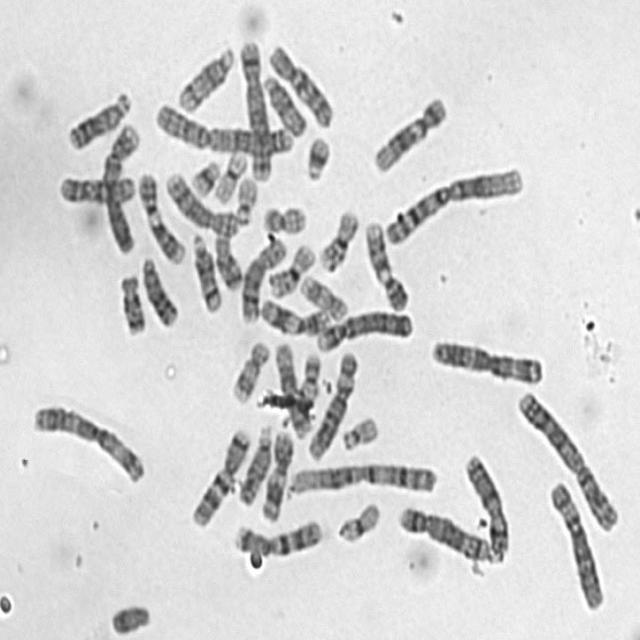A1: (377, 158, 527, 247), (282, 453, 439, 499)
A2: (512, 382, 622, 534), (147, 93, 296, 157)
A3: (26, 395, 148, 485), (424, 330, 546, 387)
B4: (96, 115, 142, 257), (311, 301, 415, 353)
B5: (392, 498, 494, 564), (234, 30, 274, 184)
C10: (262, 35, 336, 129), (52, 166, 138, 206)
C11: (255, 423, 296, 524), (254, 290, 332, 338)
C12: (367, 87, 449, 174), (268, 336, 314, 438)
C6: (543, 473, 606, 612), (302, 343, 360, 462)
C7: (186, 422, 252, 528), (228, 511, 323, 559)
C8: (160, 164, 242, 237), (234, 230, 290, 325)
C9: (131, 164, 188, 266), (358, 212, 411, 312)
D13: (60, 83, 133, 152), (135, 248, 180, 328)
D14: (171, 37, 236, 114), (185, 225, 224, 314)
D15: (257, 66, 309, 138), (235, 419, 278, 506)
E16: (313, 201, 361, 273), (263, 236, 317, 298)
E17: (226, 334, 271, 406), (294, 266, 350, 322)
E18: (113, 266, 147, 337), (209, 226, 244, 292)
F19: (331, 494, 382, 544), (208, 144, 250, 204)
F20: (256, 196, 309, 235), (293, 350, 323, 408)
G21: (299, 128, 333, 182), (185, 151, 223, 199)
G22: (335, 408, 380, 452), (230, 168, 260, 226)
X: (458, 446, 512, 562)
Y: (104, 596, 152, 636)
